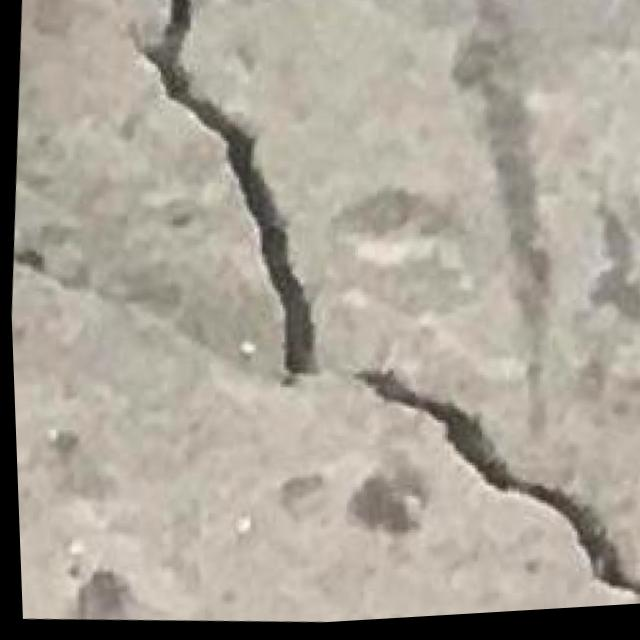Crack: (117, 0, 347, 417), (327, 354, 640, 625)
